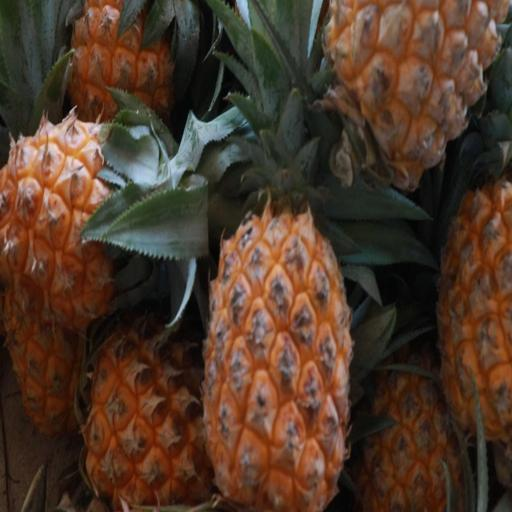Pineapple - v8 v1: (198, 193, 354, 512), (317, 0, 511, 212), (0, 106, 146, 336), (74, 302, 212, 508), (433, 133, 512, 457), (61, 0, 182, 191)
